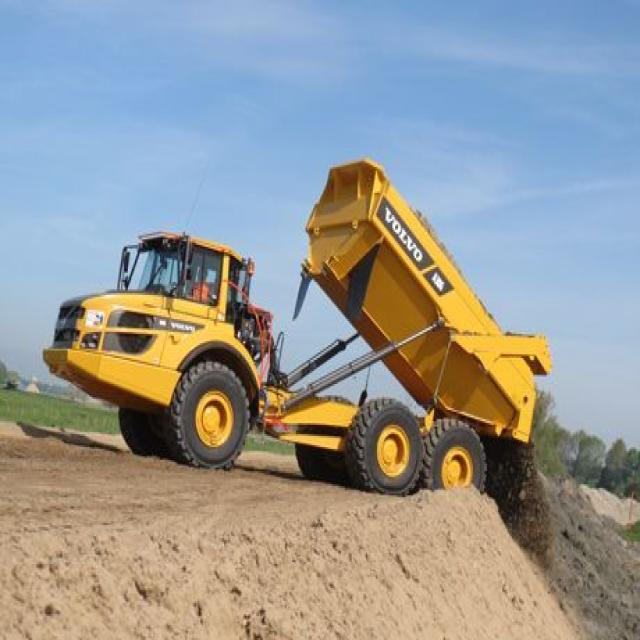dump_truck: (38, 151, 560, 508)
